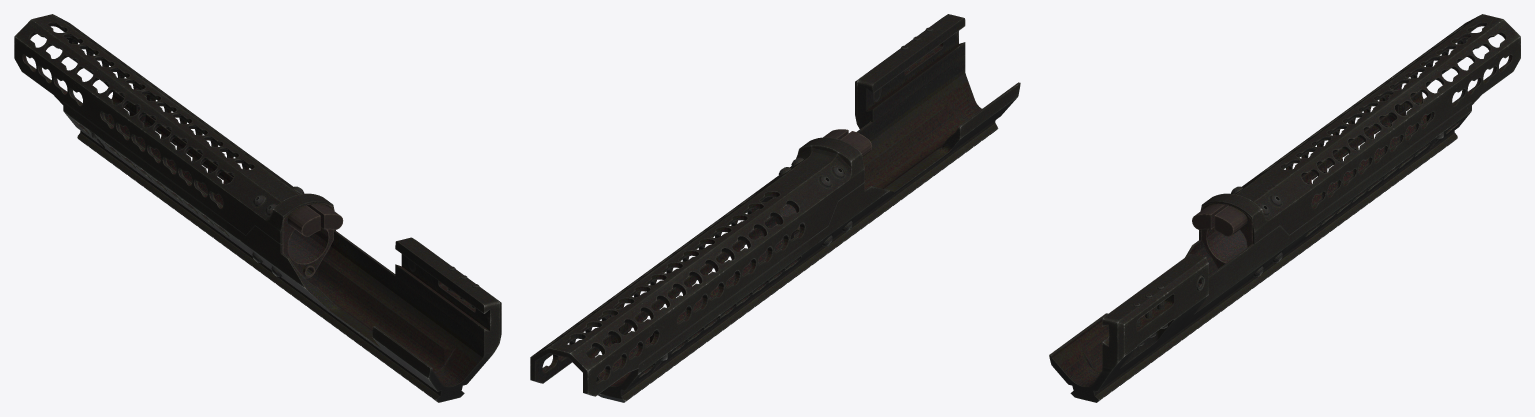
The picture shows the model from 3 angles, left to right: view 1: azimuth 30°, elevation 25°; view 2: azimuth 150°, elevation 25°; view 3: azimuth 330°, elevation 25°; orthographic projection. The views are drawn at different scales.
Visible parts, largest first — view 1: TW_5dfcd0e547101c39625f66f9_PZ_Import; view 2: TW_5dfcd0e547101c39625f66f9_PZ_Import; view 3: TW_5dfcd0e547101c39625f66f9_PZ_Import.
Part boxes in pixels (x1,y1,x2,y2): TW_5dfcd0e547101c39625f66f9_PZ_Import: [14, 14, 501, 402]; TW_5dfcd0e547101c39625f66f9_PZ_Import: [530, 14, 1020, 402]; TW_5dfcd0e547101c39625f66f9_PZ_Import: [1049, 14, 1520, 402].
Bounding box in the file's own units: 0.0315 × 0.3093 × 0.0396.
1 material, 1 textured.
